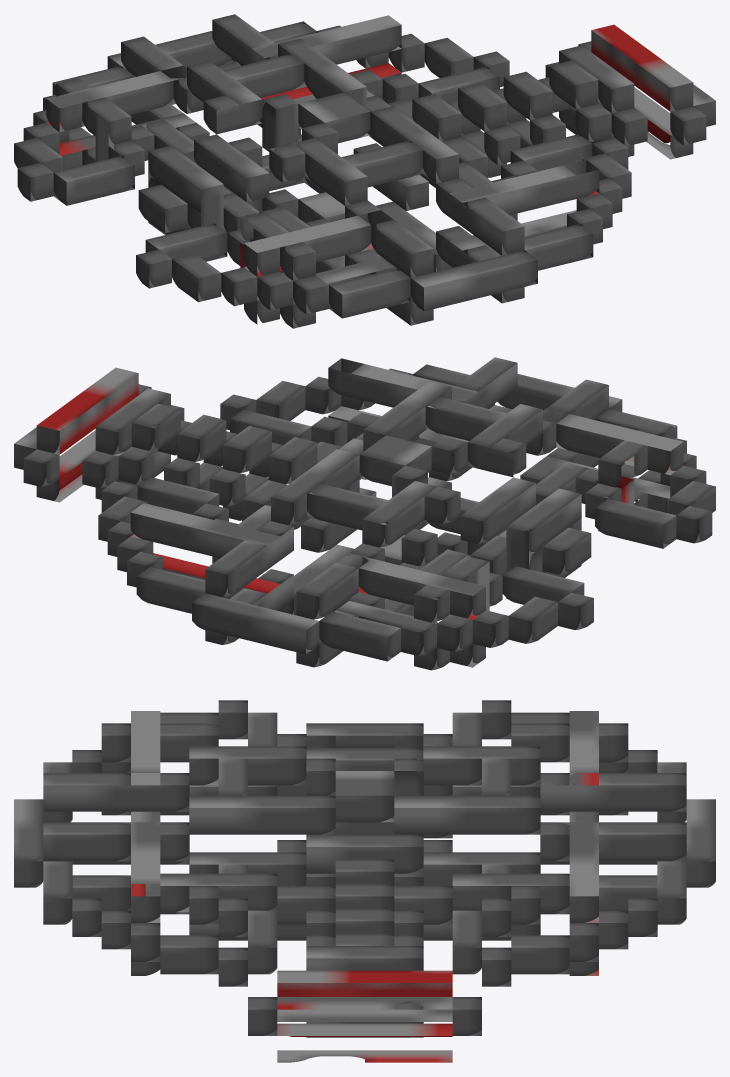
File: axe rim.obj
3 views of the same model, one above another, from view 1: azimuth 30°, elevation 25°; view 2: azimuth 150°, elevation 25°; view 3: azimuth 270°, elevation 25° (orthographic). The views are drawn at different scales.
Parts seen in each view (by area): view 1: Model; view 2: Model; view 3: Model.
Part boxes in pixels (x1,y1,x2,y2): Model: [14, 14, 715, 328]; Model: [14, 357, 715, 670]; Model: [14, 700, 715, 1062].
Bounding box in the file's own units: 26 × 5 × 24.
